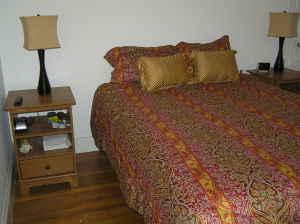Cama: (100, 47, 299, 221)
